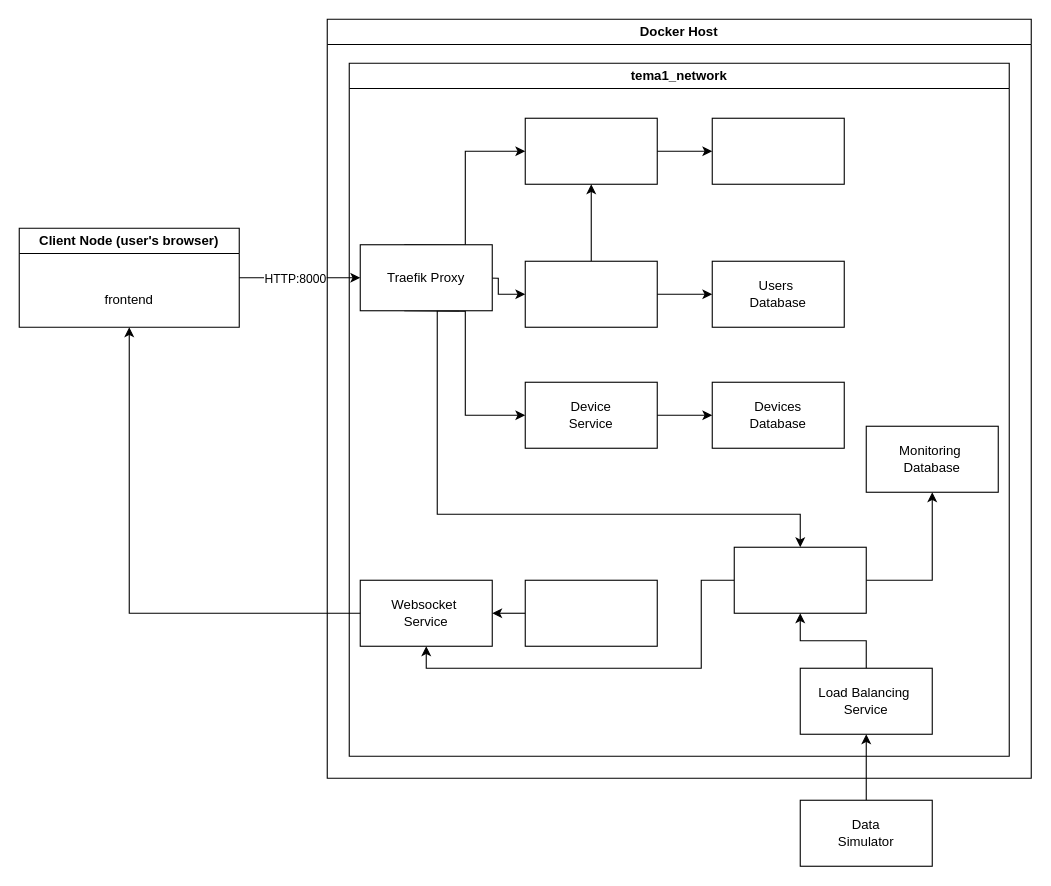
The diagram is 1051 pixels wide and 886 high, and some of its shapes have lost their labels. Here are the shapes that lost their labels. From the top down, the centre of each, then its label:
[590,150]: Authentication Service
[777,150]: Credential Database
[590,293]: User Service
[799,579]: Monitoring Service
[590,612]: Customer Support Service
